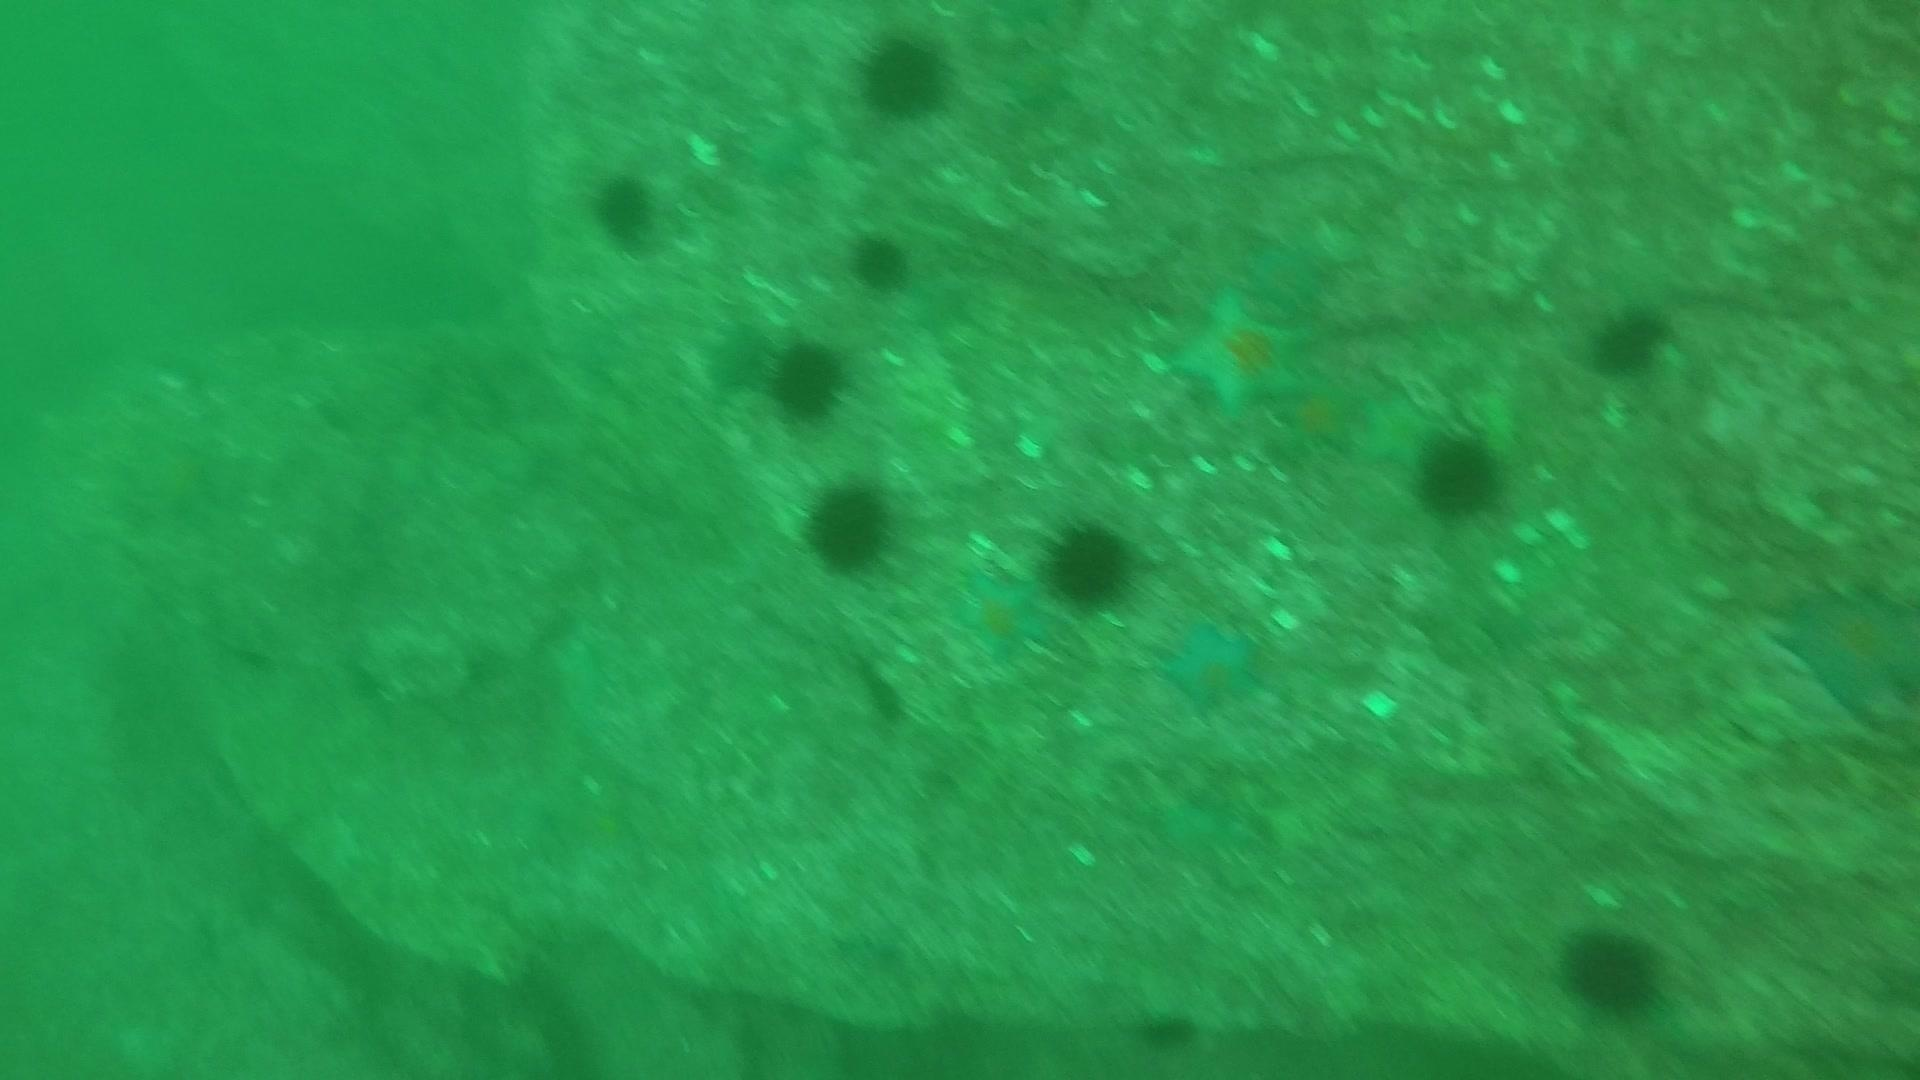echinus: (1555, 920, 1667, 1019), (799, 473, 899, 578), (1036, 516, 1142, 612), (852, 28, 956, 124), (1410, 426, 1509, 524), (762, 334, 852, 425), (1584, 299, 1676, 380), (585, 166, 666, 251), (844, 225, 916, 295), (1134, 1004, 1201, 1058)
starfish: (1766, 575, 1917, 721), (1160, 284, 1313, 419), (1155, 612, 1267, 717), (1234, 223, 1346, 322), (949, 563, 1056, 666), (1350, 378, 1455, 477), (1143, 785, 1259, 868), (1269, 368, 1370, 458), (735, 105, 825, 189)
